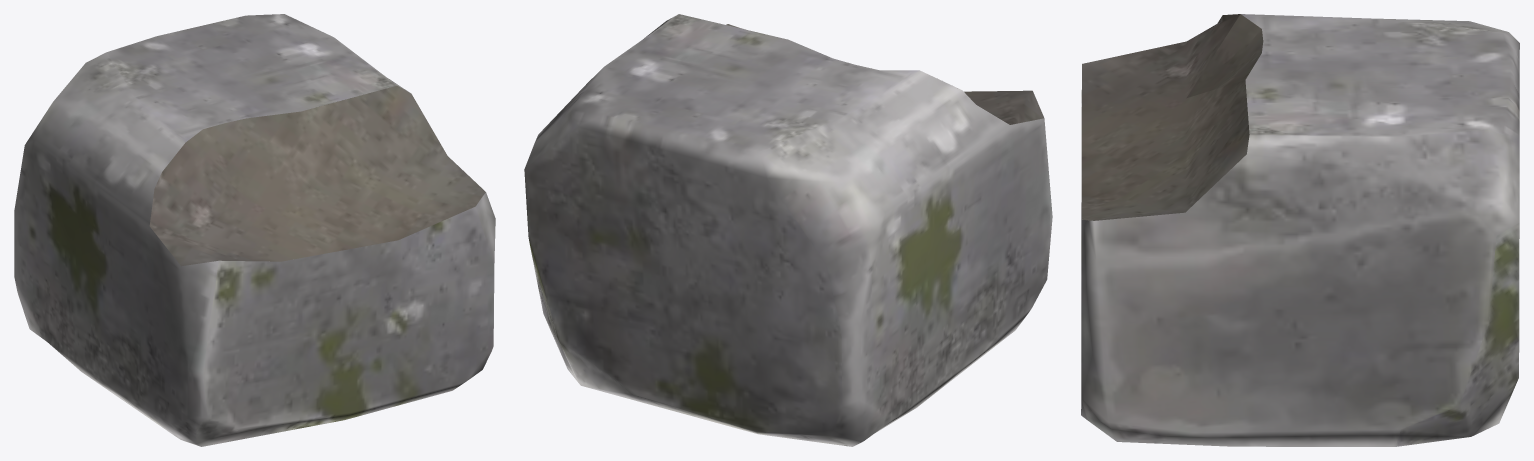
The picture shows the model from 3 angles, left to right: view 1: azimuth 30°, elevation 25°; view 2: azimuth 150°, elevation 25°; view 3: azimuth 270°, elevation 25°; orthographic projection. The views are drawn at different scales.
Visible parts, largest first — view 1: SM_Castle_Floor_Stone_01_Dmg_v9_LOD0; view 2: SM_Castle_Floor_Stone_01_Dmg_v9_LOD0; view 3: SM_Castle_Floor_Stone_01_Dmg_v9_LOD0.
Part boxes in pixels (x1,y1,x2,y2): SM_Castle_Floor_Stone_01_Dmg_v9_LOD0: (14, 14, 495, 446); SM_Castle_Floor_Stone_01_Dmg_v9_LOD0: (524, 14, 1052, 446); SM_Castle_Floor_Stone_01_Dmg_v9_LOD0: (1081, 14, 1519, 446).
Bounding box in the file's own units: 0.7762 × 0.6201 × 0.8198.
Materials: 2 (2 with a texture image).
